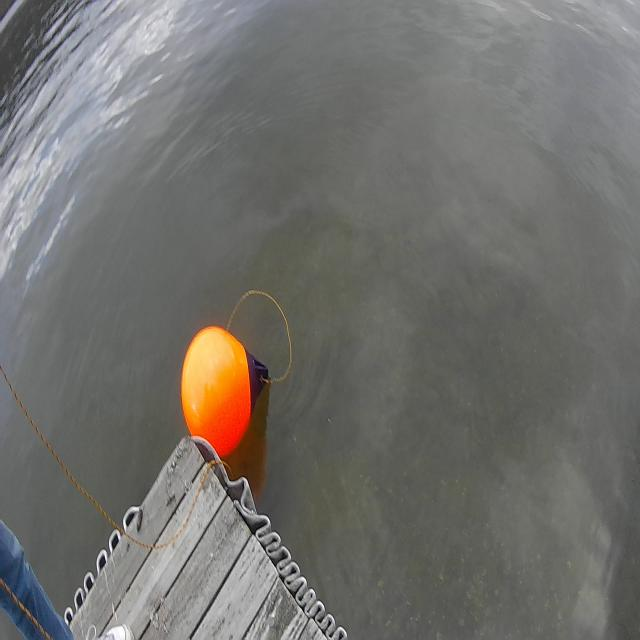Buoy: (170, 310, 278, 464)
